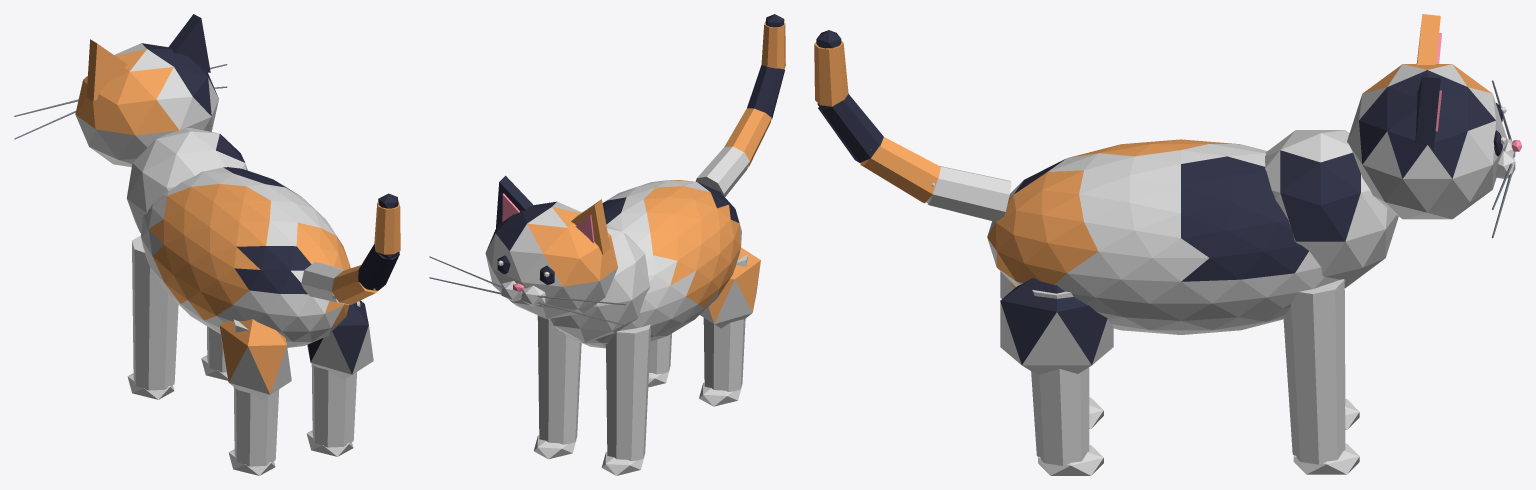
The model's file is cat.glb.
The picture shows the model from 3 angles, left to right: view 1: azimuth 30°, elevation 25°; view 2: azimuth 150°, elevation 25°; view 3: azimuth 270°, elevation 25°; orthographic projection. The views are drawn at different scales.
Visible parts, largest first — view 1: body, head, leg_bl, leg_br, leg_fl, tail, leg_fr; view 2: body, head, leg_fl, leg_bl, tail, leg_fr, leg_br; view 3: body, head, leg_br, leg_fr, tail.
Boxes of the visible parts, x1,y1,x2,y2 form: body: (126, 128, 350, 347); head: (14, 14, 227, 166); leg_bl: (219, 319, 291, 475); leg_br: (306, 300, 373, 456); leg_fl: (127, 235, 178, 399); tail: (301, 193, 400, 304); leg_fr: (201, 326, 228, 380); body: (548, 180, 741, 348); head: (429, 175, 625, 325); leg_fl: (601, 324, 650, 475); leg_bl: (699, 247, 760, 406); tail: (695, 14, 785, 196); leg_fr: (534, 315, 581, 459); leg_br: (648, 333, 671, 387); body: (987, 130, 1398, 334); head: (1347, 14, 1521, 238); leg_br: (1000, 277, 1113, 475); leg_fr: (1283, 279, 1359, 474); tail: (814, 30, 1011, 221).
Bounding box in the file's own units: 19.62 × 29.95 × 45.62.
